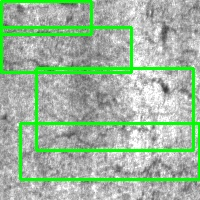crazing: (36, 68, 193, 150), (20, 123, 199, 179), (1, 27, 131, 72), (1, 1, 91, 34)
